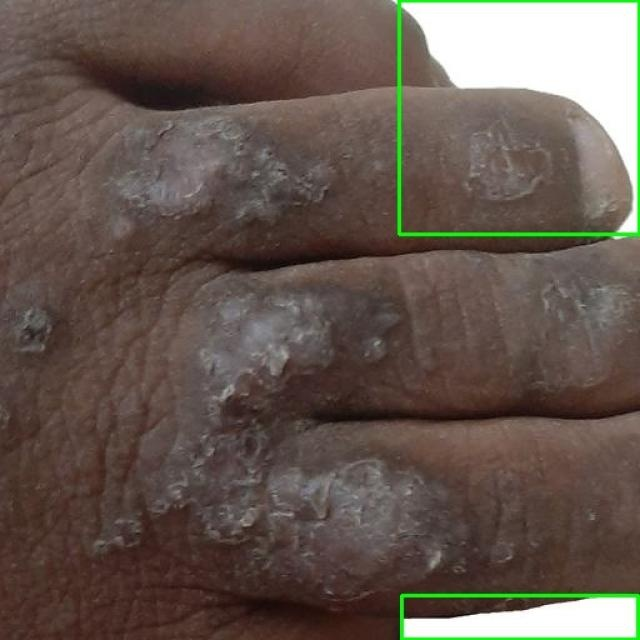Contact Dermatitis: (399, 0, 639, 234), (402, 595, 639, 639)
